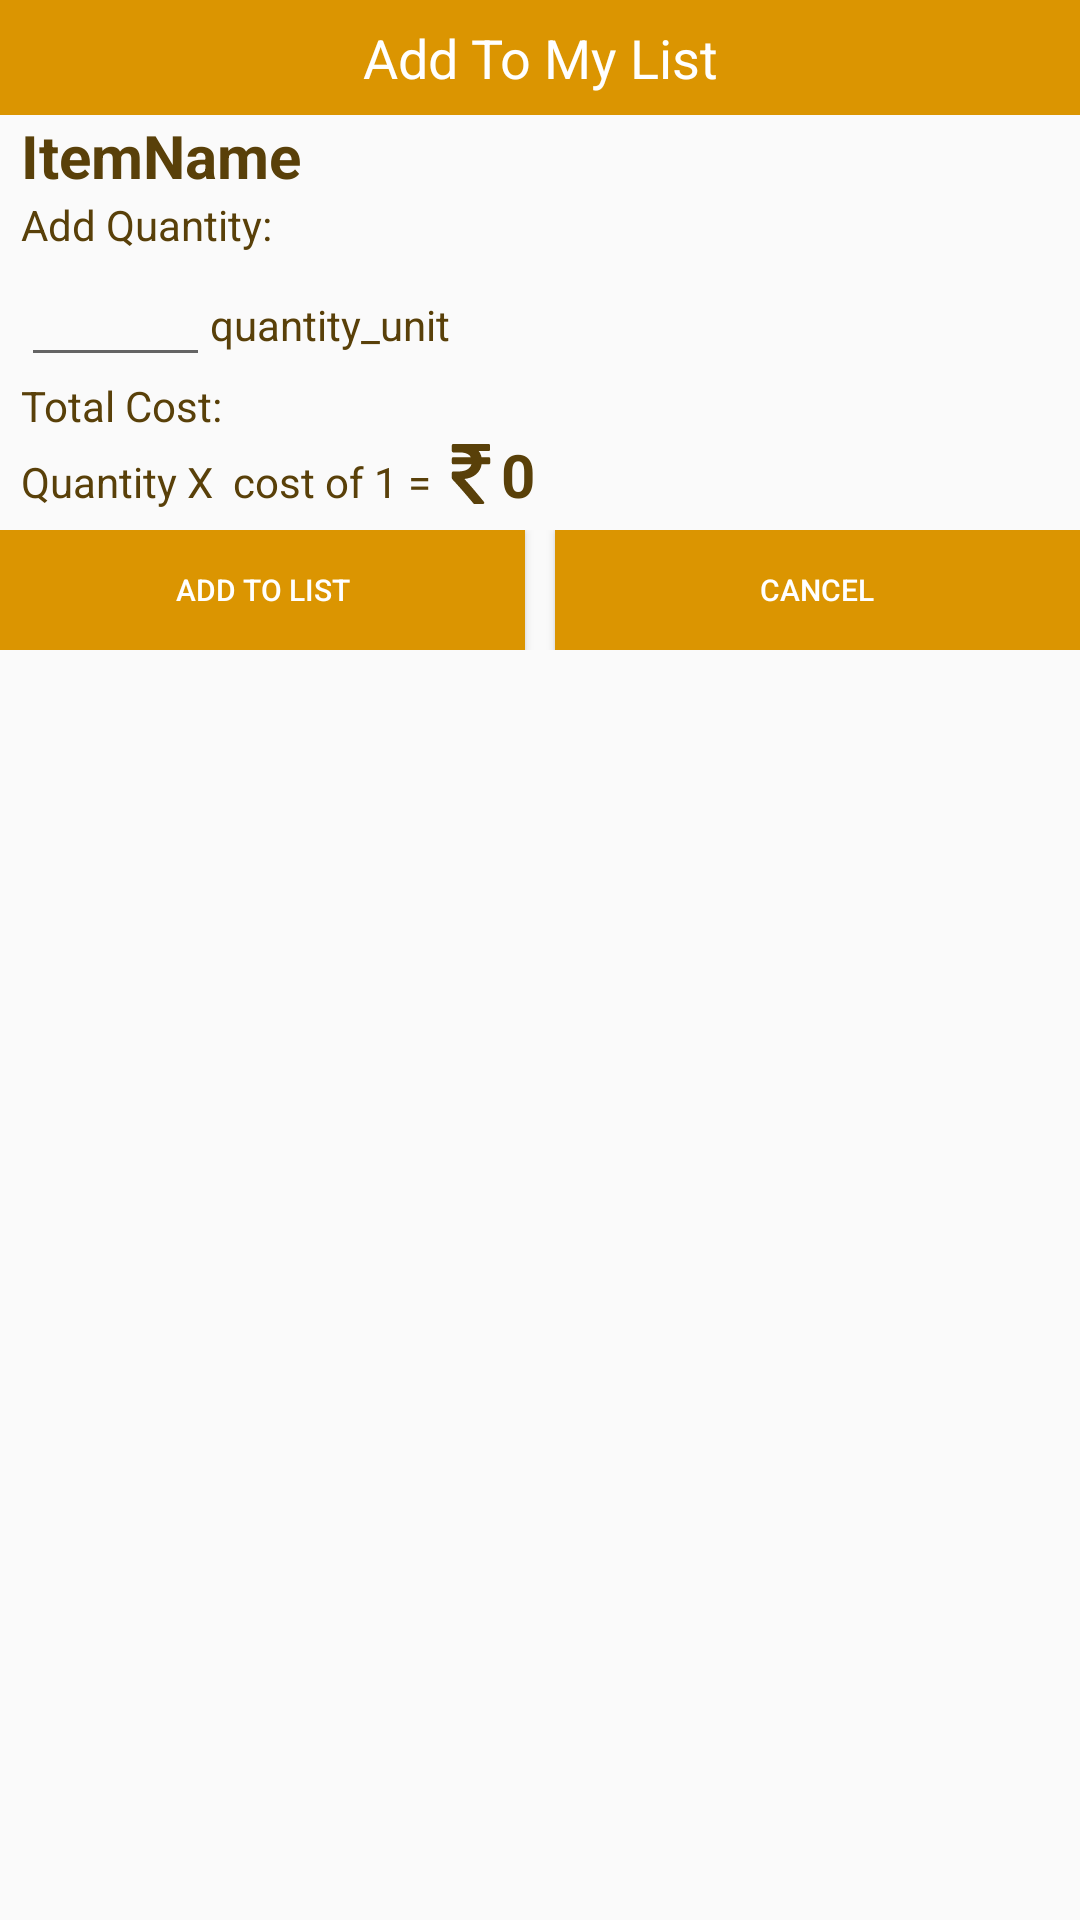

Where to tap for icons on this 1080 × 1920 app screen, as point (x, y):
rupee: point (471, 474)
